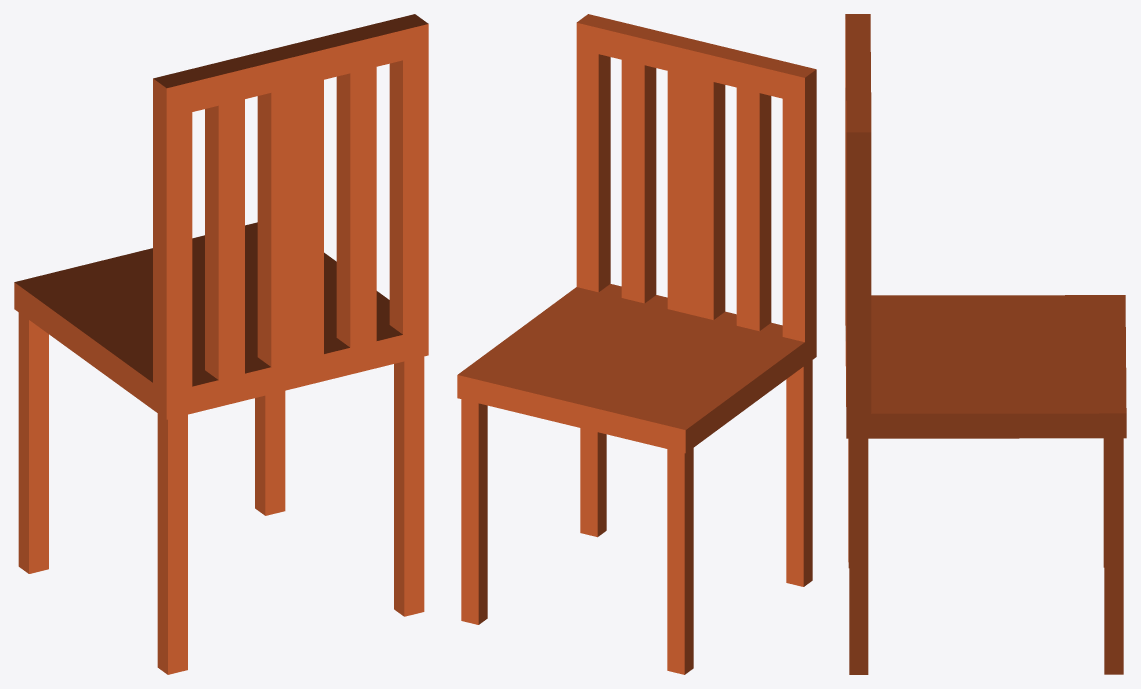
File: Chair 2.fbx
3 views of the same model, side by side, from view 1: azimuth 30°, elevation 25°; view 2: azimuth 150°, elevation 25°; view 3: azimuth 270°, elevation 25° (orthographic). The views are drawn at different scales.
Visible parts, largest first — view 1: Chair 2; view 2: Chair 2; view 3: Chair 2.
Boxes of the visible parts, x1,y1,x2,y2 form: Chair 2: (14, 14, 428, 674); Chair 2: (457, 14, 816, 674); Chair 2: (845, 14, 1126, 674).
Size of the model in its own units: 0.4379 by 0.9348 by 0.4379.
